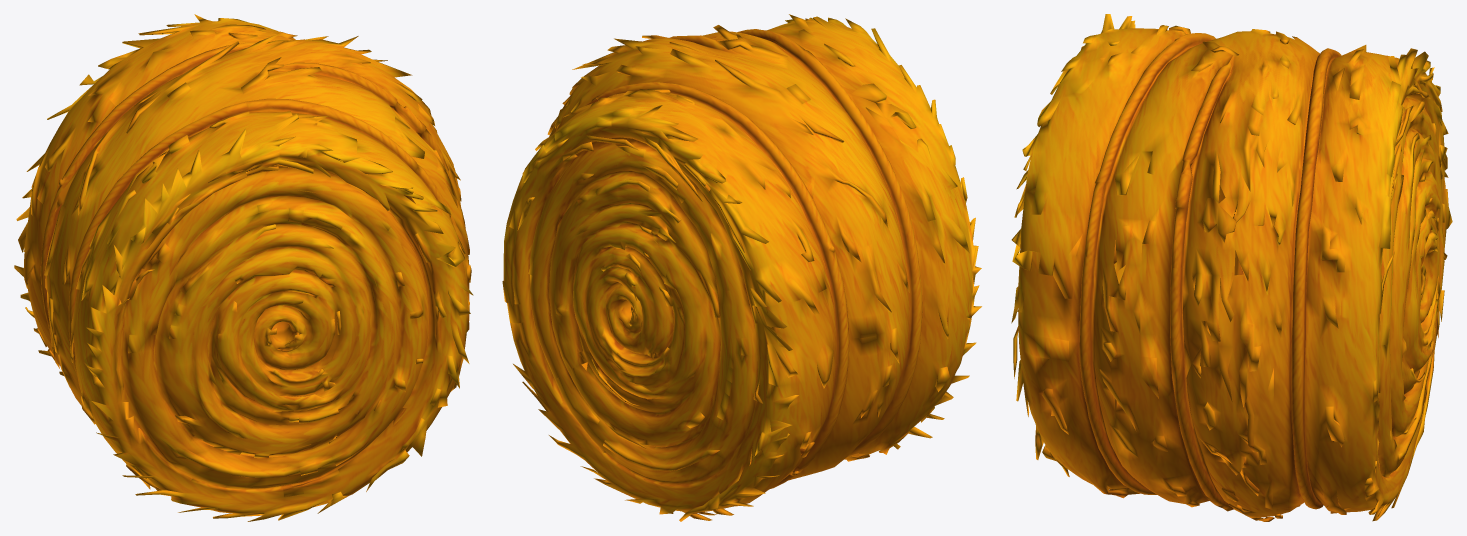
Rendered from bale.glb.
3 views of the same model, side by side, from view 1: azimuth 30°, elevation 25°; view 2: azimuth 150°, elevation 25°; view 3: azimuth 270°, elevation 25° (orthographic). The views are drawn at different scales.
Visible parts, largest first — view 1: tripo_node_d4b11ae0-a395-4822-bb8e-4c40bcd86dfe; view 2: tripo_node_d4b11ae0-a395-4822-bb8e-4c40bcd86dfe; view 3: tripo_node_d4b11ae0-a395-4822-bb8e-4c40bcd86dfe.
Part boxes in pixels (x1=…): tripo_node_d4b11ae0-a395-4822-bb8e-4c40bcd86dfe: x1=14, y1=14, x2=473, y2=521; tripo_node_d4b11ae0-a395-4822-bb8e-4c40bcd86dfe: x1=502, y1=14, x2=981, y2=521; tripo_node_d4b11ae0-a395-4822-bb8e-4c40bcd86dfe: x1=1011, y1=14, x2=1452, y2=521.
Size of the model in its own units: 0.9769 by 0.9693 by 0.8507.
1 material, 1 textured.
